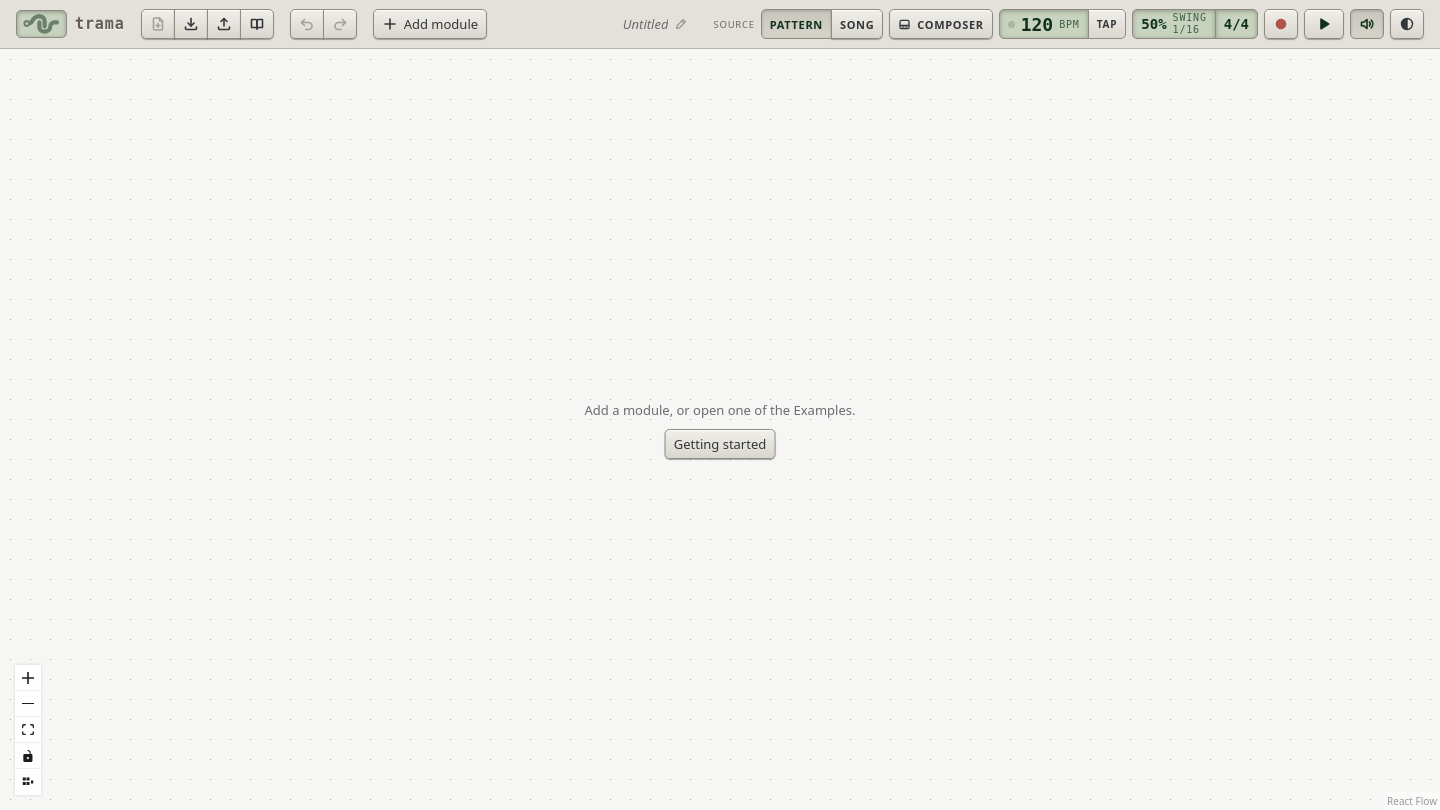
Test: App › shows the title and author of the piece, edits them from its card, and names the tab after it
Click the button with aria-label "Piece: Untitled": click(655, 24) x1=612 y1=8 x2=698 y2=40
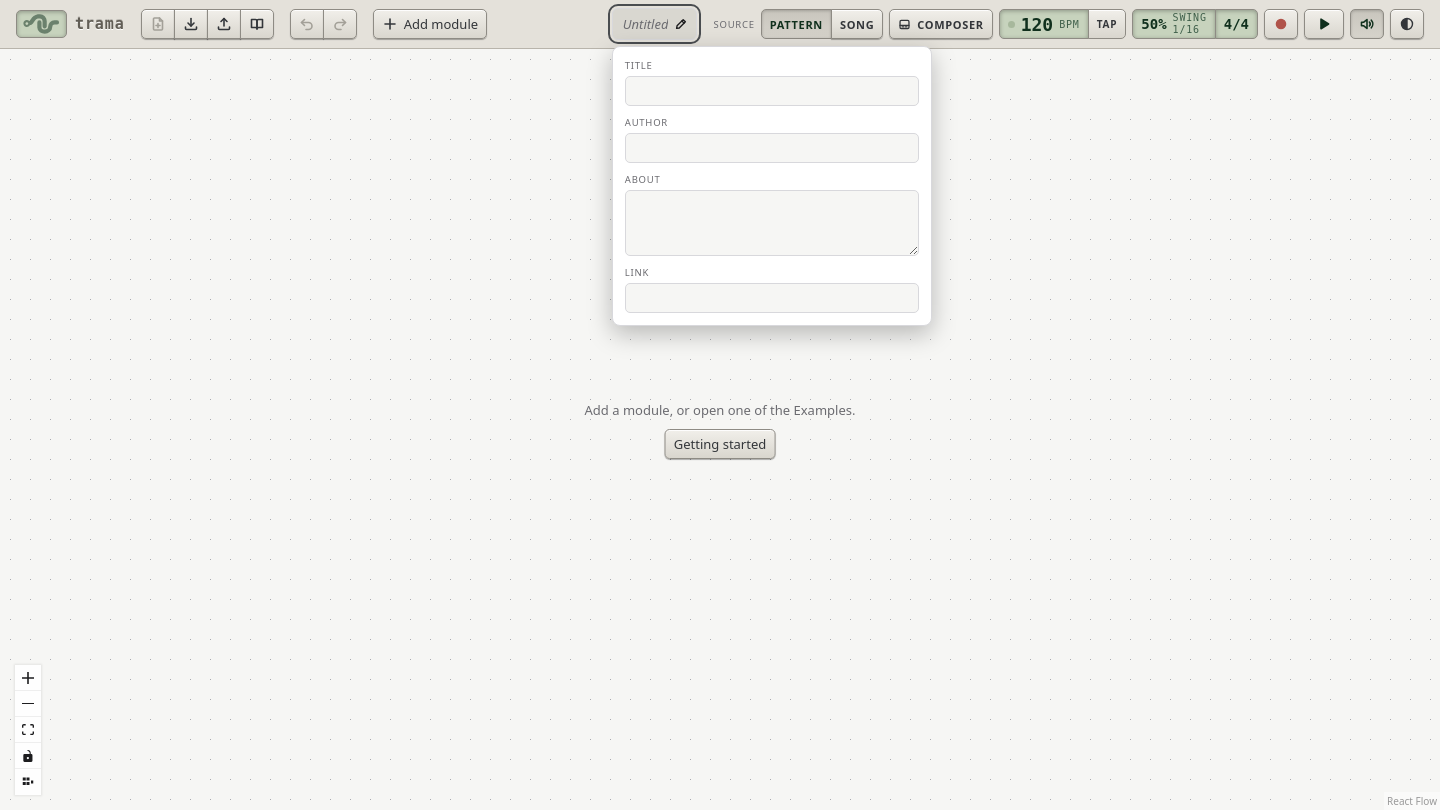
In the field labelled "Title": (772, 91) x1=625 y1=76 x2=919 y2=106, type "Pluja a la finestra"
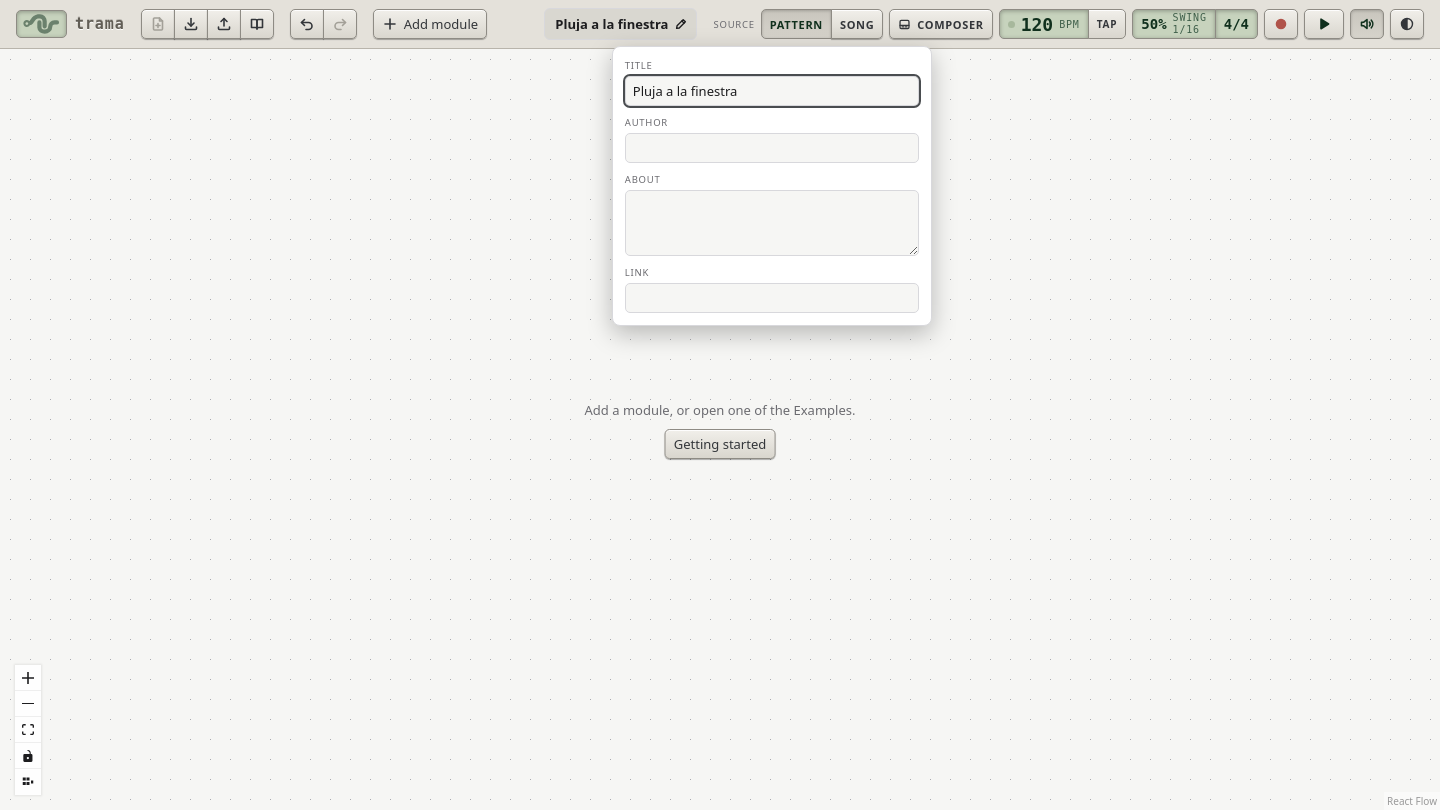
In the field labelled "Author": (772, 148) x1=625 y1=133 x2=919 y2=163, type "Francesc"
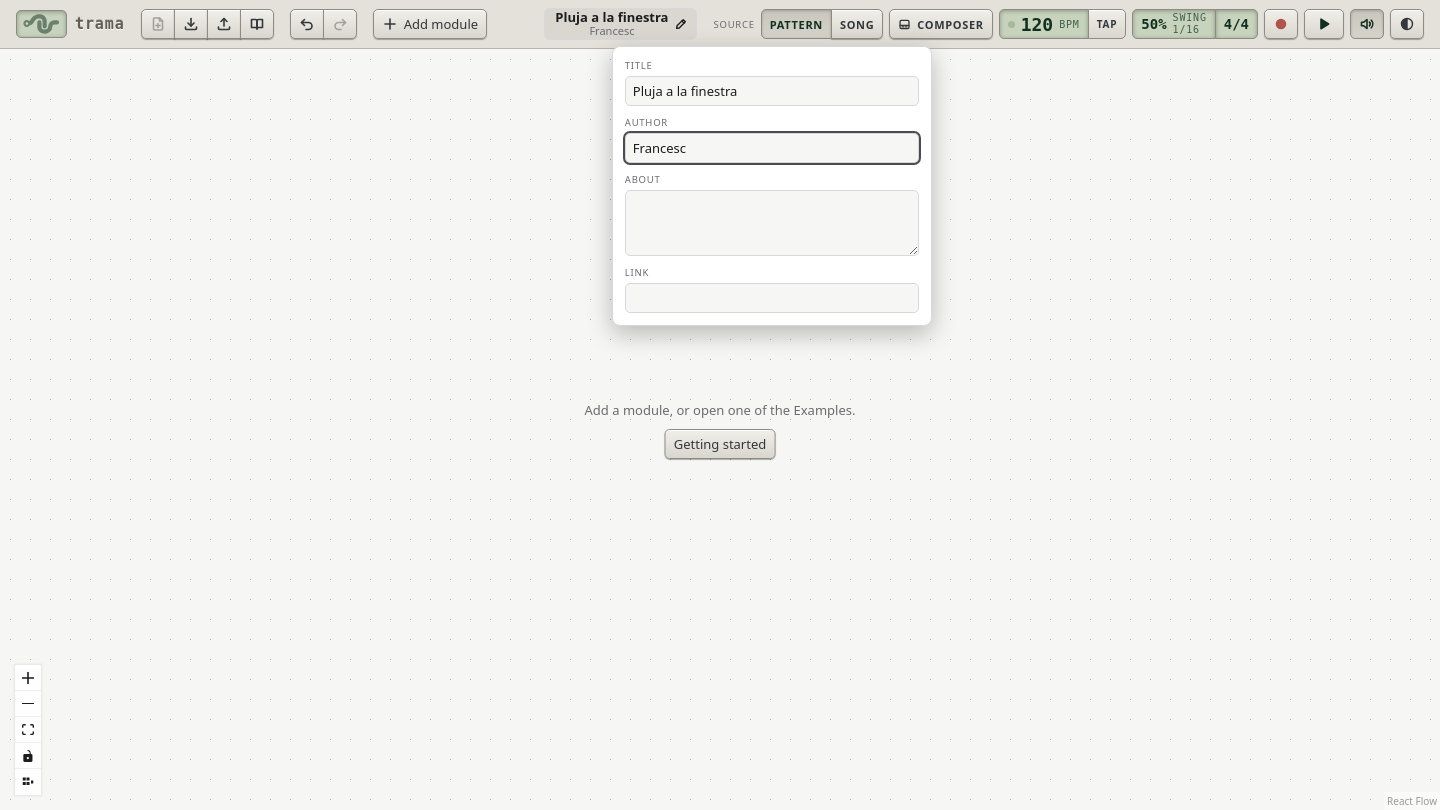
Check: the button with aria-label "Piece: Pluja a la finestra, by Francesc" is shown, box x1=544 y1=8 x2=698 y2=40
